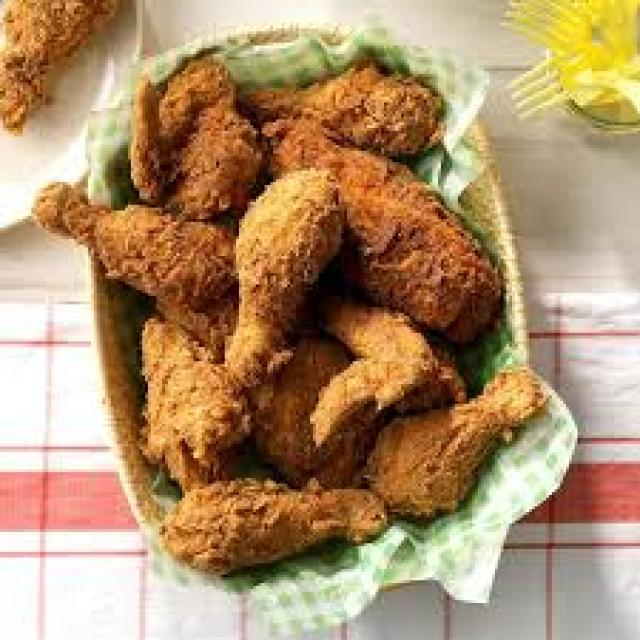Frango: (42, 28, 554, 580)
